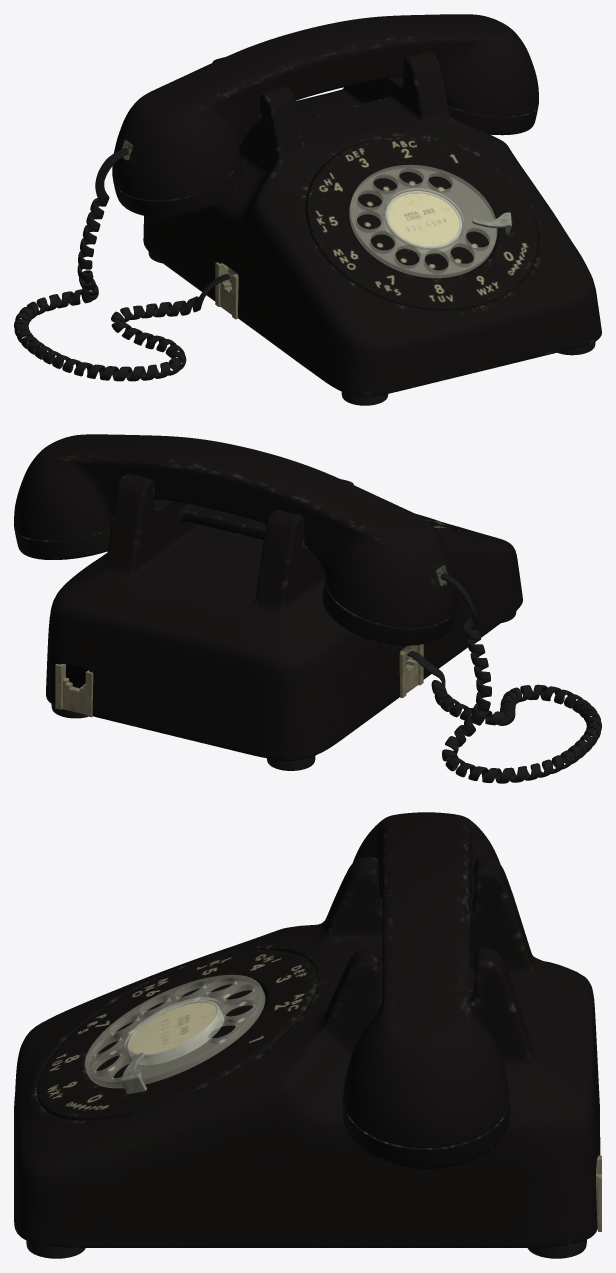
The picture shows the model from 3 angles, top to bottom: view 1: azimuth 30°, elevation 25°; view 2: azimuth 150°, elevation 25°; view 3: azimuth 270°, elevation 25°; orthographic projection. The views are drawn at different scales.
Visible parts, largest first — view 1: Main_Body, Handset, Dial_Number_Plate, Rotary_Dial_Finger_Wheel, Coiled_Cord, Rotary_Dial_Card, Rotary_Dial_Center_Cap, Handset_Jack; view 2: Main_Body, Handset, Coiled_Cord, Line_Jack, Handset_Jack, Base_Feet_04; view 3: Main_Body, Handset, Dial_Number_Plate, Rotary_Dial_Finger_Wheel, Rotary_Dial_Card, Rotary_Dial_Center_Cap, Base_Feet_03, Rotary_Dial_Finger_Stop, Base_Feet_01.
Part boxes in pixels (bbox=[...]): Main_Body: bbox=[143, 51, 601, 396]; Handset: bbox=[112, 14, 538, 217]; Dial_Number_Plate: bbox=[305, 137, 538, 310]; Rotary_Dial_Finger_Wheel: bbox=[349, 165, 497, 277]; Coiled_Cord: bbox=[14, 146, 232, 381]; Rotary_Dial_Card: bbox=[388, 193, 459, 245]; Rotary_Dial_Center_Cap: bbox=[384, 191, 461, 253]; Handset_Jack: bbox=[215, 262, 238, 319]; Main_Body: bbox=[46, 473, 522, 760]; Handset: bbox=[14, 434, 457, 645]; Coiled_Cord: bbox=[405, 571, 601, 783]; Line_Jack: bbox=[55, 664, 93, 717]; Handset_Jack: bbox=[399, 644, 423, 697]; Base_Feet_04: bbox=[267, 755, 315, 770]; Main_Body: bbox=[14, 857, 600, 1247]; Handset: bbox=[342, 812, 509, 1168]; Dial_Number_Plate: bbox=[37, 950, 317, 1120]; Rotary_Dial_Finger_Wheel: bbox=[85, 975, 264, 1087]; Rotary_Dial_Card: bbox=[130, 1002, 216, 1053]; Rotary_Dial_Center_Cap: bbox=[127, 1000, 224, 1065]; Base_Feet_03: bbox=[527, 1239, 586, 1258]; Rotary_Dial_Finger_Stop: bbox=[120, 1052, 146, 1094]; Base_Feet_01: bbox=[26, 1240, 85, 1258].
Size of the model in its own units: 0.2798 by 0.1188 by 0.2125.
Materials: 2 (2 with a texture image).
